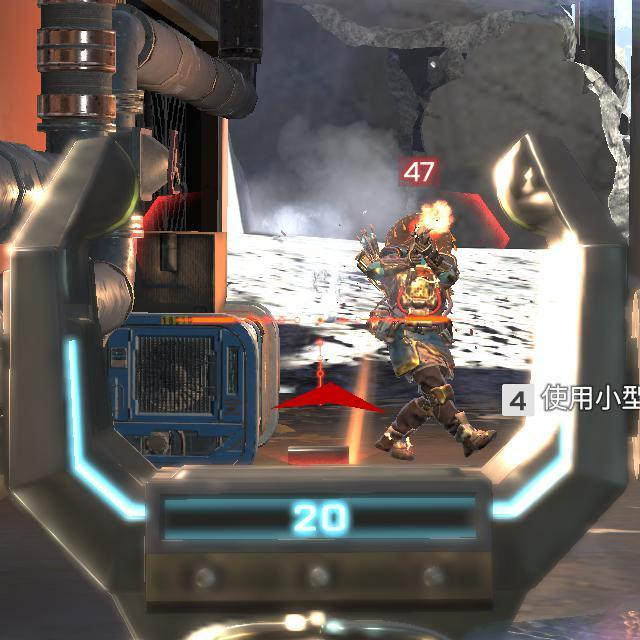avatar: (354, 200, 465, 464)
